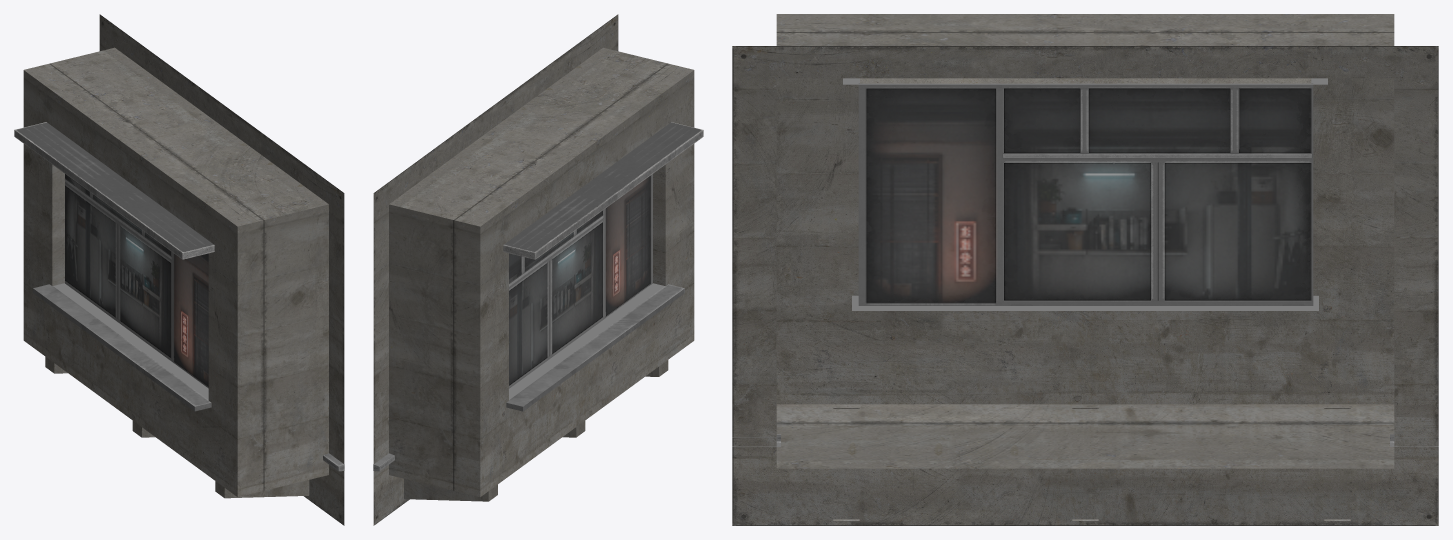
File: CP_Windows_A_4x3m_05.fbx
3 views of the same model, side by side, from view 1: azimuth 30°, elevation 25°; view 2: azimuth 150°, elevation 25°; view 3: azimuth 270°, elevation 25° (orthographic). The views are drawn at different scales.
Visible parts, largest first — view 1: CP_Windows_A_4x3m_05; view 2: CP_Windows_A_4x3m_05; view 3: CP_Windows_A_4x3m_05.
Boxes of the visible parts, left/top/right/bottom form: CP_Windows_A_4x3m_05: left=14, top=14, right=344, bottom=525; CP_Windows_A_4x3m_05: left=373, top=14, right=703, bottom=525; CP_Windows_A_4x3m_05: left=732, top=14, right=1438, bottom=525.
Bounding box in the file's own units: 118 × 300 × 400.
